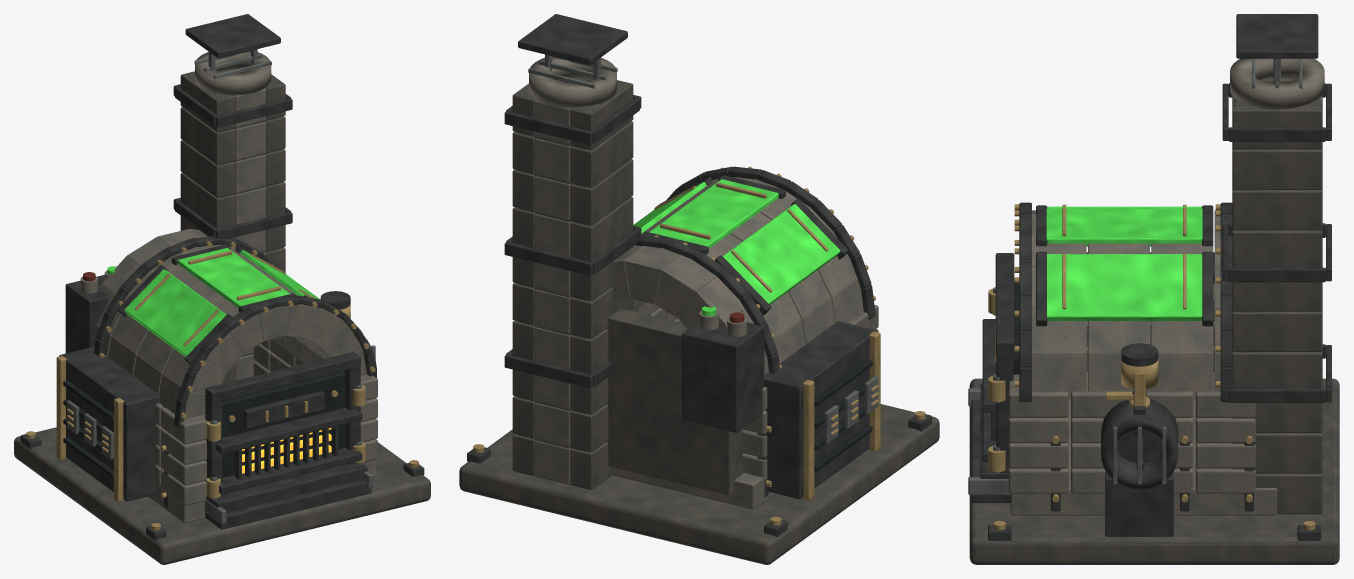
File: smelter-v05.glb
The picture shows the model from 3 angles, left to right: view 1: azimuth 30°, elevation 25°; view 2: azimuth 150°, elevation 25°; view 3: azimuth 270°, elevation 25°; orthographic projection. The views are drawn at different scales.
Parts seen in each view (by area): view 1: SMELTER | dressed foundation, SMELTER | left founded service chest, SMELTER | retained green roof inspection shield, SMELTER | dark closed iron firebox door, SMELTER | retained green roof inspection shield.001, SMELTER | retained door sill, SMELTER | retained door lintel, SMELTER | spark guard supported hood, SMELTER | founded charge tray, SMELTER | burner grille grounded rail.001, SMELTER | founded circuit terminal block, SMELTER | open ceramic flue crown (+41 smaller); view 2: SMELTER | dressed foundation, SMELTER | founded rear kiln wall, SMELTER | left founded service chest, SMELTER | founded circuit terminal block, SMELTER | retained green roof inspection shield, SMELTER | retained green roof inspection shield.001, SMELTER | spark guard supported hood, SMELTER | open ceramic flue crown, SMELTER | flue founded side brick.014, SMELTER | flue founded side brick.016, SMELTER | flue founded side brick.012, SMELTER | fitted refractory vault voussoir.032 (+49 smaller); view 3: SMELTER | dressed foundation, SMELTER | retained green roof inspection shield.002, SMELTER | retained green roof inspection shield.001, SMELTER | sealed refractory floor, SMELTER | combustion air intake, SMELTER | open ceramic flue crown, SMELTER | flue founded side brick.015, SMELTER | flue founded side brick.009, SMELTER | flue founded side brick.017, SMELTER | spark guard supported hood, SMELTER | air intake founded foot, SMELTER | flue founded side brick.013 (+49 smaller).
Part boxes in pixels (x1,y1,x2,y2): SMELTER | dressed foundation: (14, 427, 430, 564); SMELTER | left founded service chest: (59, 347, 160, 501); SMELTER | retained green roof inspection shield: (124, 269, 226, 356); SMELTER | dark closed iron firebox door: (222, 371, 345, 477); SMELTER | retained green roof inspection shield.001: (178, 248, 290, 307); SMELTER | retained door sill: (206, 463, 367, 512); SMELTER | retained door lintel: (205, 352, 360, 402); SMELTER | spark guard supported hood: (185, 14, 280, 58); SMELTER | founded charge tray: (205, 479, 371, 529); SMELTER | burner grille grounded rail.001: (215, 407, 362, 454); SMELTER | founded circuit terminal block: (65, 275, 109, 353); SMELTER | open ceramic flue crown: (195, 51, 271, 95); SMELTER | dressed foundation: (459, 404, 939, 564); SMELTER | founded rear kiln wall: (606, 308, 742, 495); SMELTER | left founded service chest: (764, 321, 877, 499); SMELTER | founded circuit terminal block: (682, 322, 764, 432); SMELTER | retained green roof inspection shield: (722, 204, 840, 304); SMELTER | retained green roof inspection shield.001: (649, 179, 778, 248); SMELTER | spark guard supported hood: (518, 14, 627, 65); SMELTER | open ceramic flue crown: (529, 57, 616, 107); SMELTER | flue founded side brick.014: (570, 159, 633, 225); SMELTER | flue founded side brick.016: (570, 121, 633, 187); SMELTER | flue founded side brick.012: (570, 197, 633, 261); SMELTER | fitted refractory vault voussoir.032: (655, 255, 716, 318); SMELTER | dressed foundation: (969, 378, 1339, 564); SMELTER | retained green roof inspection shield.002: (1047, 254, 1202, 320); SMELTER | retained green roof inspection shield.001: (1046, 208, 1202, 246); SMELTER | sealed refractory floor: (1010, 399, 1277, 515); SMELTER | combustion air intake: (1101, 399, 1178, 489); SMELTER | open ceramic flue crown: (1230, 58, 1324, 109); SMELTER | flue founded side brick.015: (1232, 188, 1322, 230); SMELTER | flue founded side brick.009: (1232, 310, 1322, 351); SMELTER | flue founded side brick.017: (1232, 148, 1322, 189); SMELTER | spark guard supported hood: (1236, 14, 1318, 58); SMELTER | air intake founded foot: (1105, 471, 1173, 536); SMELTER | flue founded side brick.013: (1232, 229, 1322, 267).
Bounding box in the file's own units: 0.903 × 1.26 × 0.8635.
10 materials, 10 textured.
